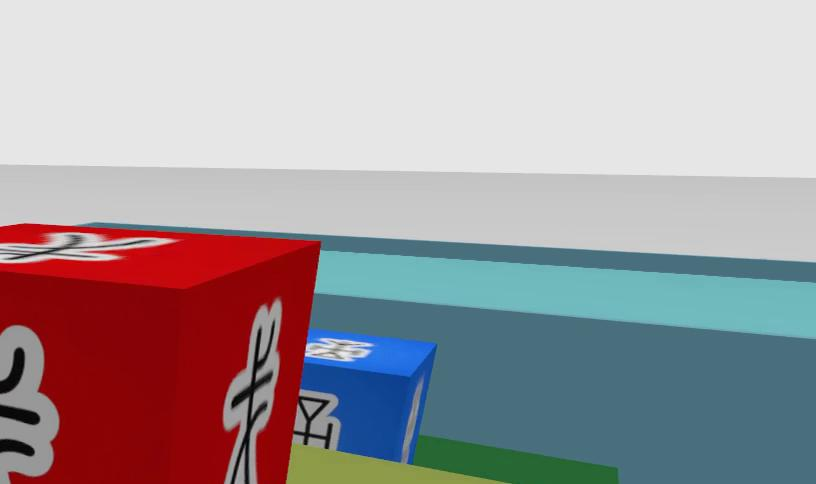KFS_FAKE: (0, 220, 321, 484), (222, 300, 281, 484), (0, 325, 58, 484), (0, 231, 170, 265)
KFS_REAL: (300, 328, 441, 466), (294, 387, 343, 451), (306, 335, 372, 363), (404, 380, 426, 456)
